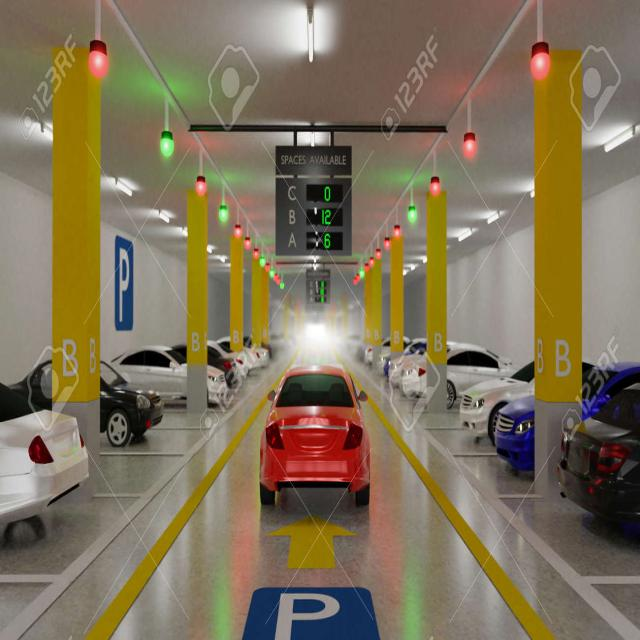ocupado: (343, 320, 640, 590), (4, 316, 272, 600)
